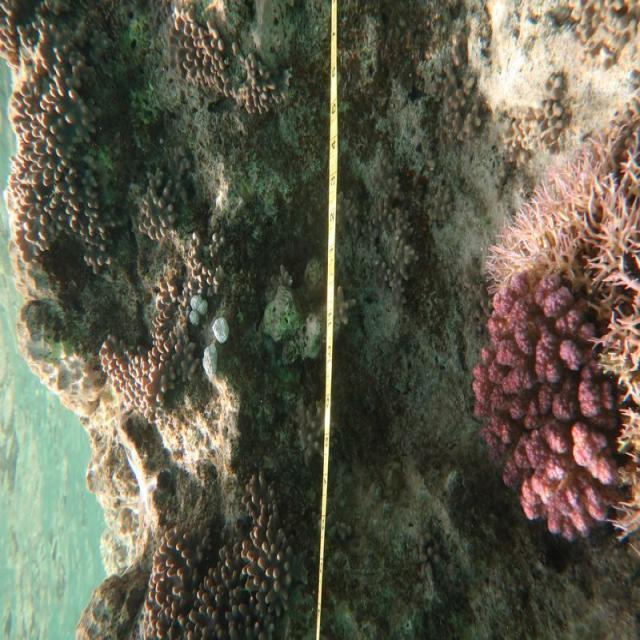Healthy Coral: (467, 288, 621, 542)
